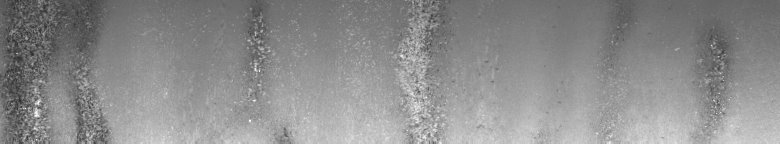hc: (4, 5, 103, 136)
